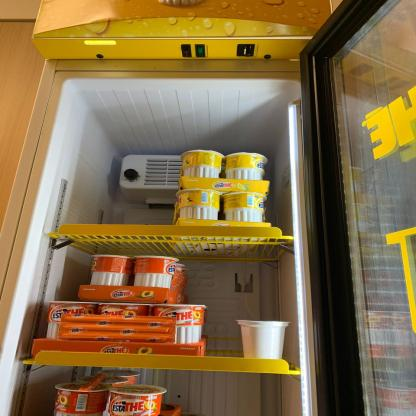pot: (239, 317, 286, 361), (157, 304, 204, 346), (136, 253, 176, 294), (91, 251, 130, 290), (180, 190, 222, 220), (228, 194, 273, 221), (186, 152, 222, 178), (232, 156, 264, 179)
